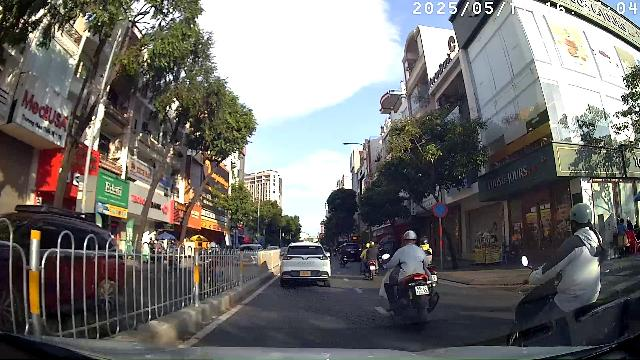131a-cam-do-xe: (432, 202, 448, 218)
